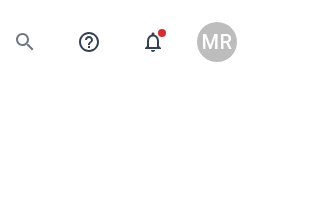
Test: UserToolBar › render open menu when clicking the avatar button
Step 1. Click the button "MR" → (217, 42), box x1=185 y1=16 x2=249 y2=68
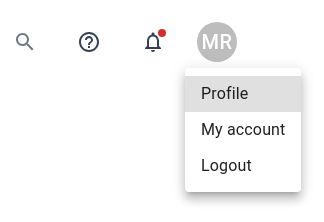
Expected: the menu is shown, x1=185 y1=68 x2=302 y2=192
